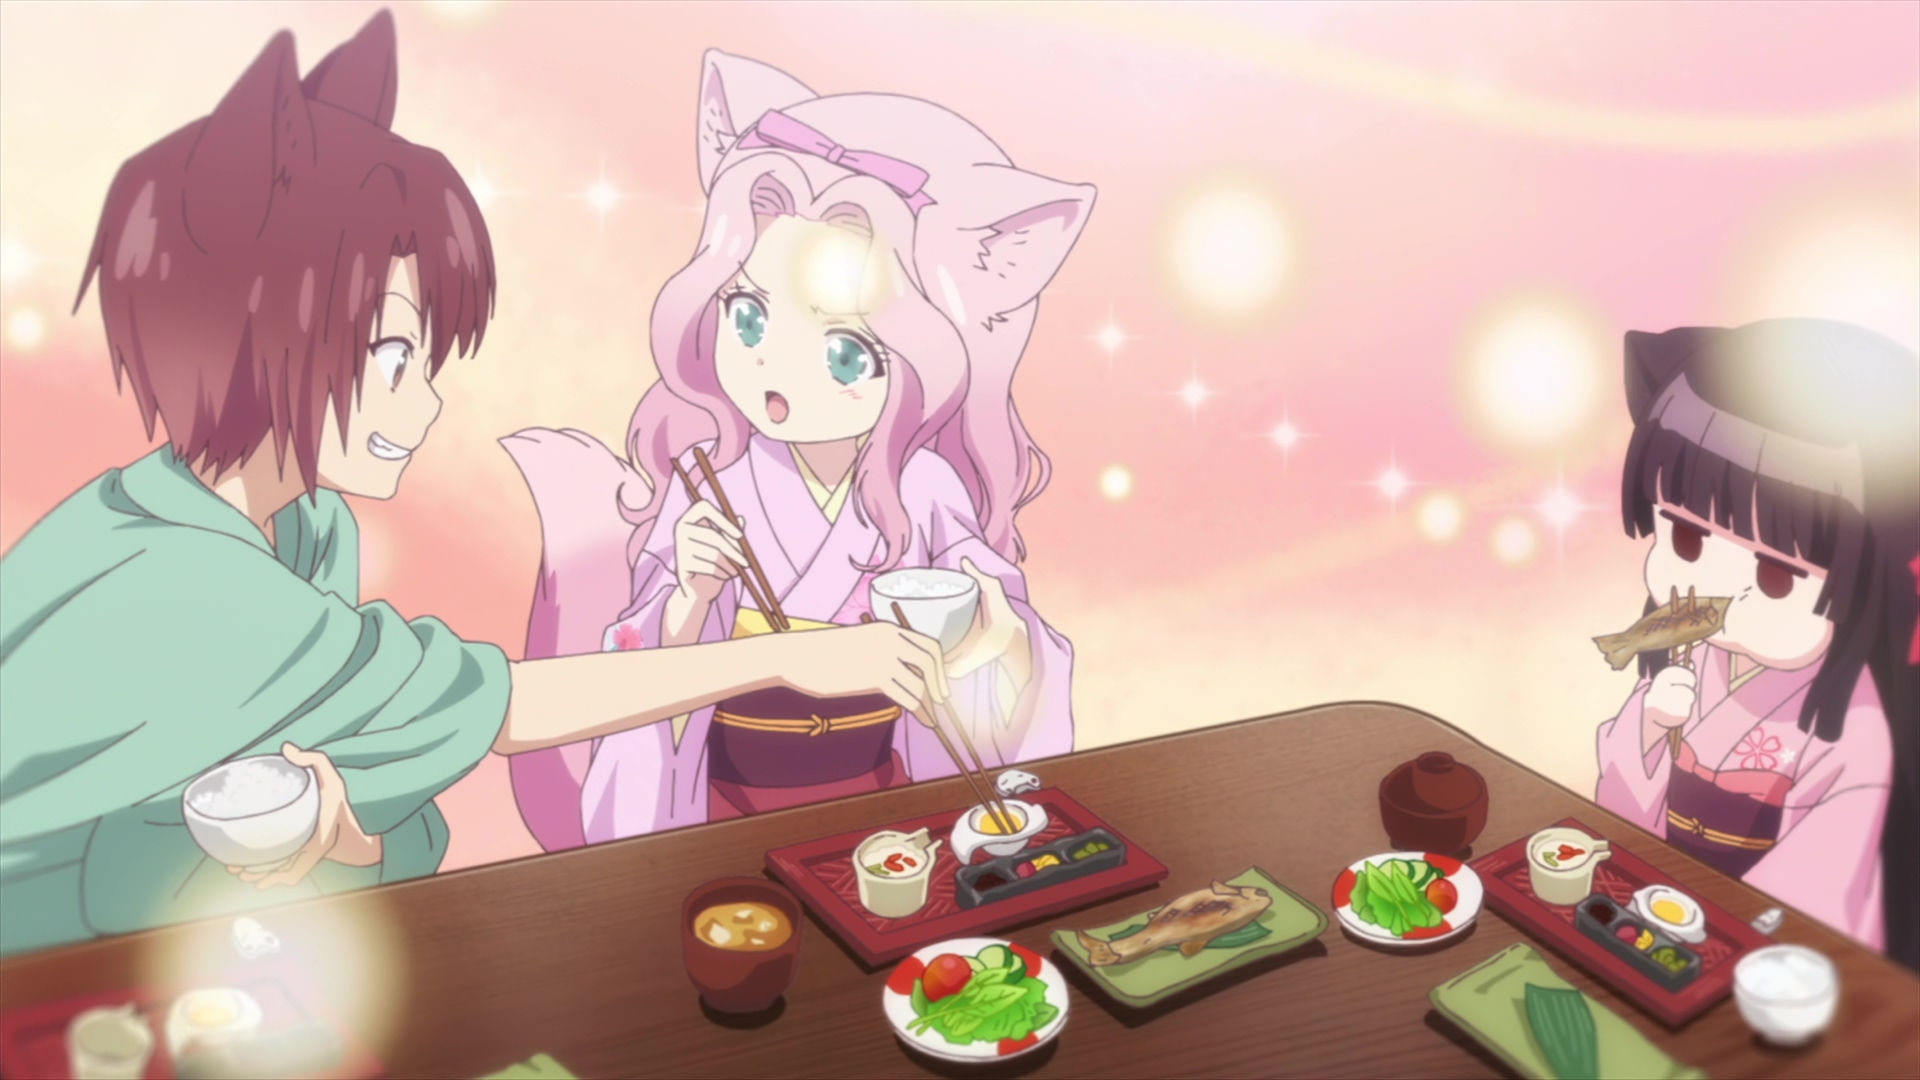枣: (1, 1, 948, 952)
樱: (1593, 315, 1920, 971)
莲: (497, 50, 1096, 853)
